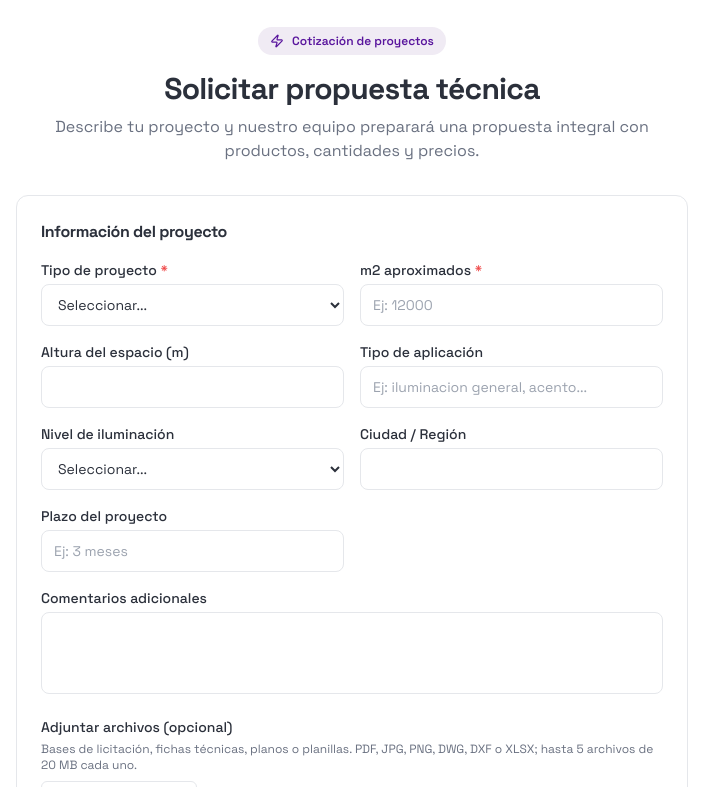
Test: SmartQuotePage (/cotizador) › generate_lead solo con la referencia PY- en la respuesta: { success: true } sin ella (trampa contra bots) no cuenta
Step 1. Select "Bodega" in the dropdown labelled "Tipo de proyecto *" → (192, 305), box x1=41 y1=284 x2=344 y2=326
Step 2. Type "1200" into the field labelled "m2 aproximados *" → (512, 305), box x1=360 y1=284 x2=663 y2=326
(page scrolled)
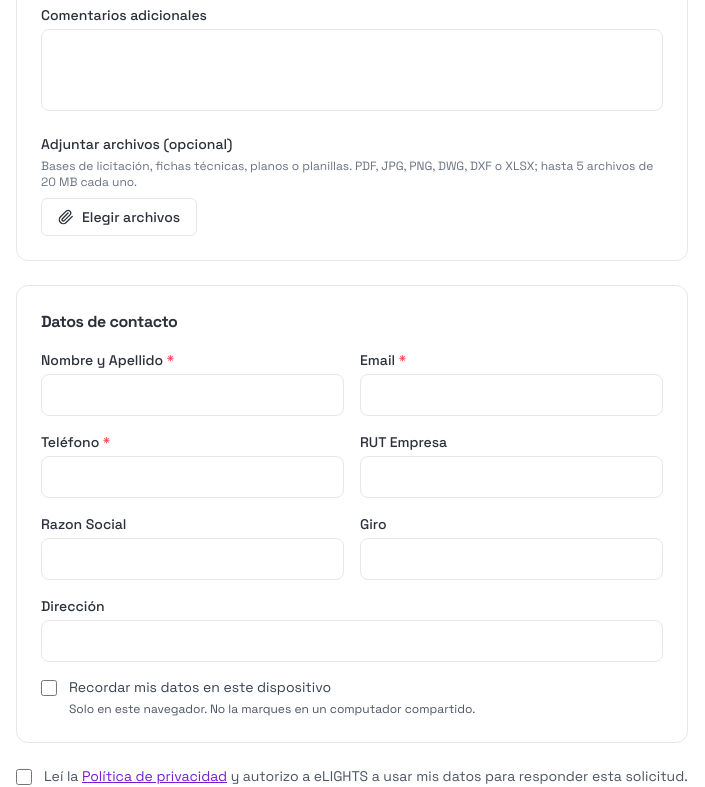
Step 3. Type "PRUEBA ETAPA 2 (09d)" into the field labelled "Nombre y Apellido *" → (192, 395), box x1=41 y1=374 x2=344 y2=416
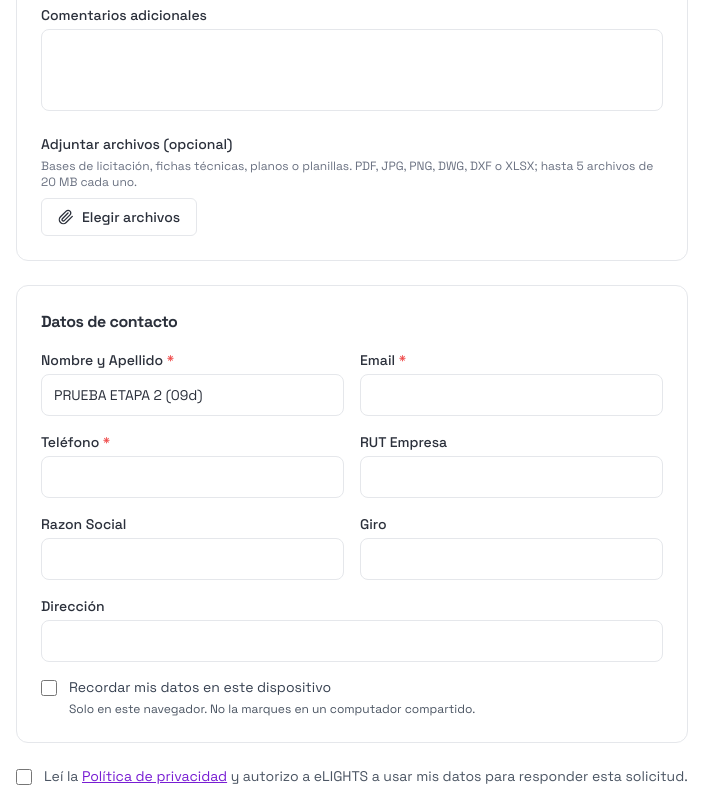
Step 4. Type "prueba-etapa2-09d@example.com" into the field labelled "Email *" → (512, 395), box x1=360 y1=374 x2=663 y2=416
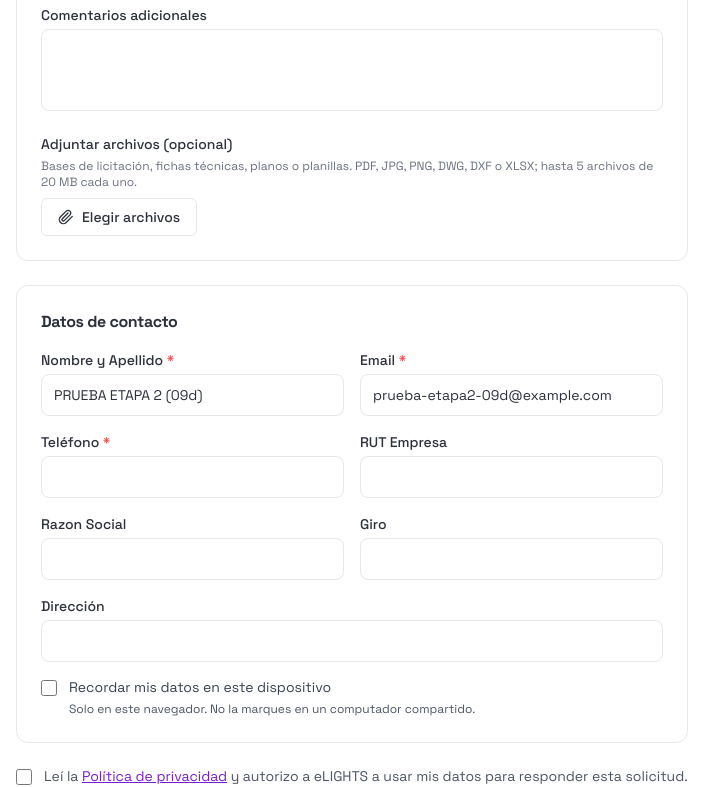
Step 5. Type "+56 9 0000 0904" into the field labelled "Teléfono *" → (192, 477), box x1=41 y1=456 x2=344 y2=498
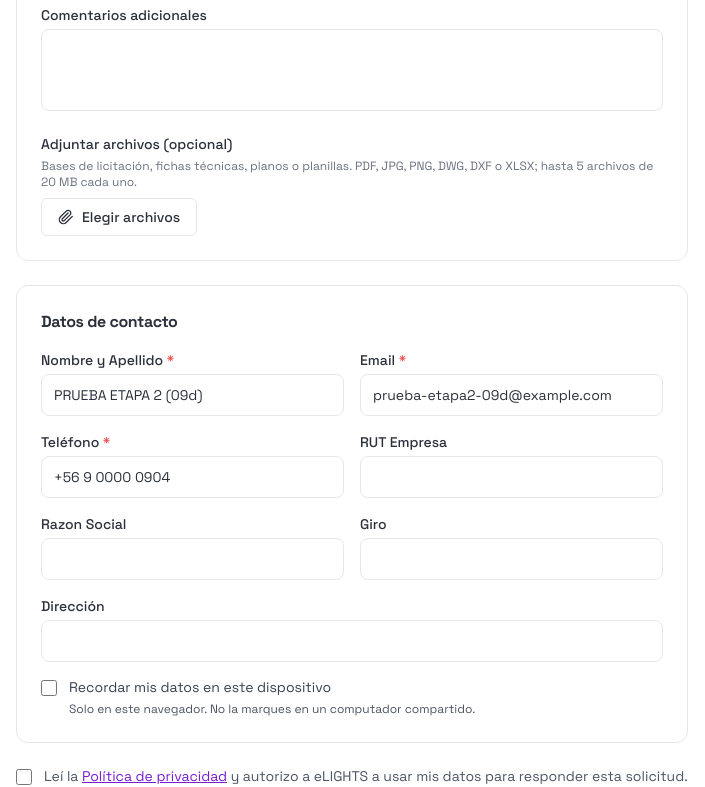
Step 6. Click the checkbox labelled "autorizo a eLIGHTS a usar mis datos" → (24, 777), box x1=16 y1=769 x2=32 y2=785
(page scrolled)
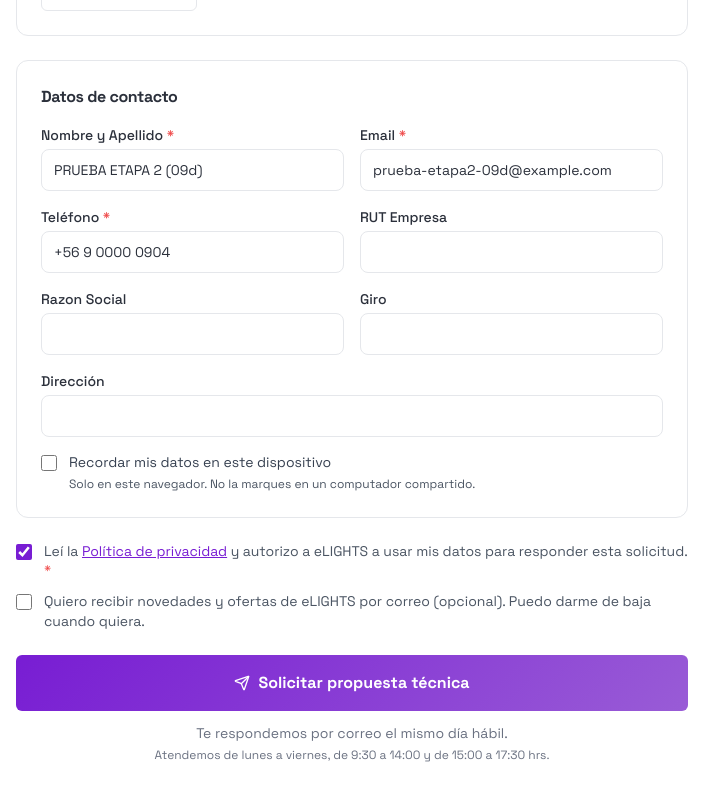
Step 7. Click the button "Solicitar propuesta técnica" → (352, 683), box x1=16 y1=655 x2=688 y2=711
(page scrolled)
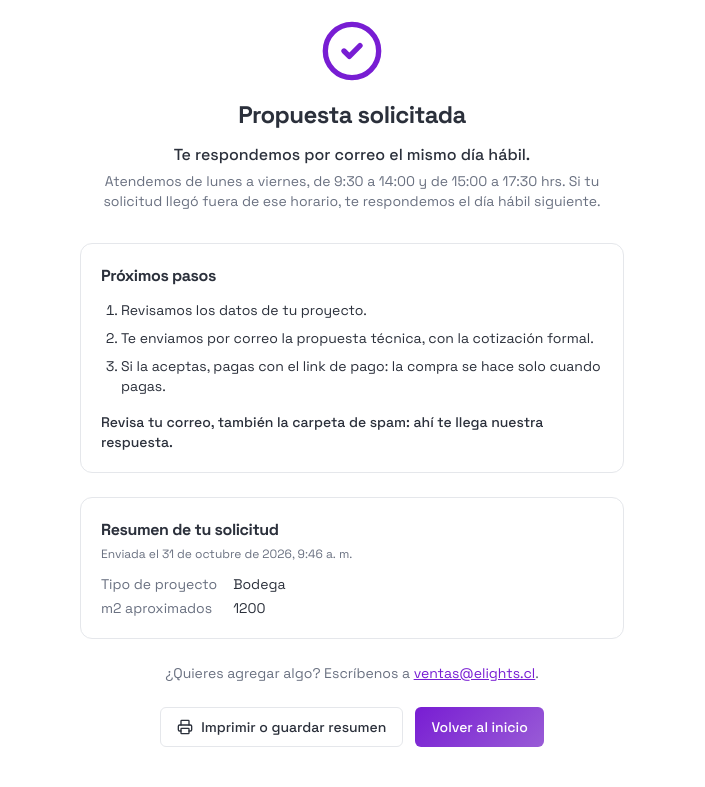
Now the heading "Propuesta solicitada" is shown, box x1=238 y1=99 x2=466 y2=130
